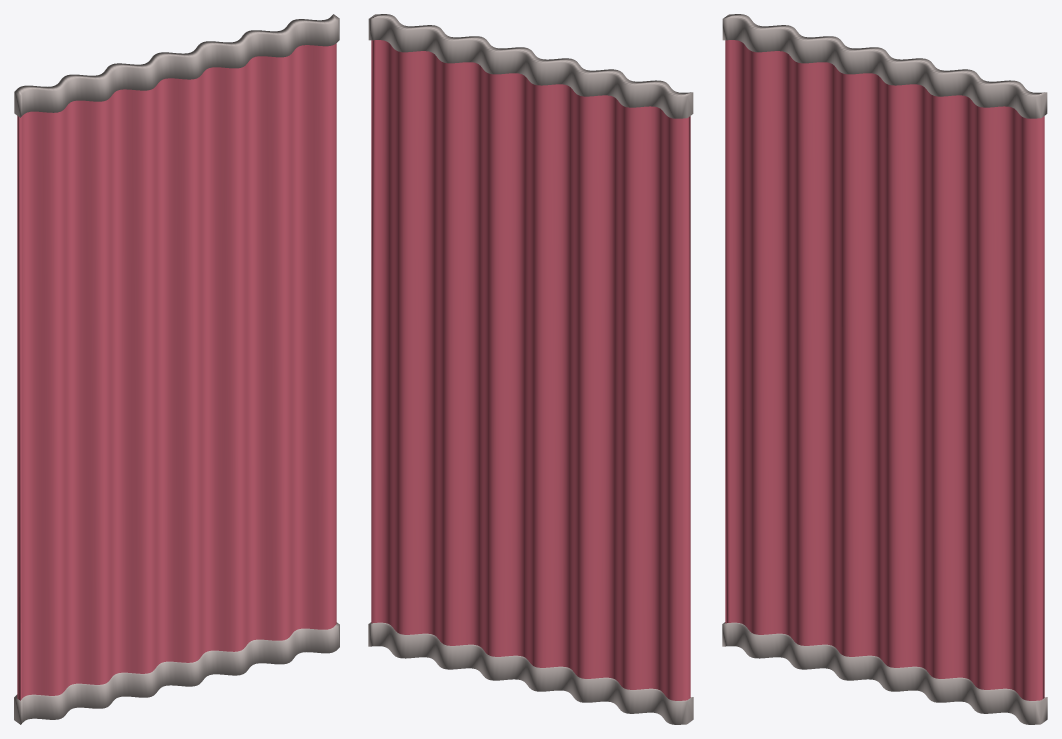
File: MessyMemoryCurtain.glb
3 views of the same model, side by side, from view 1: azimuth 30°, elevation 25°; view 2: azimuth 150°, elevation 25°; view 3: azimuth 330°, elevation 25° (orthographic).
Visible parts, largest first — view 1: Cloth, Trim; view 2: Cloth, Trim; view 3: Cloth, Trim.
Boxes of the visible parts, left/top/right/bottom form: Cloth: left=17, top=43, right=336, bottom=700; Trim: left=14, top=14, right=339, bottom=724; Cloth: left=371, top=40, right=690, bottom=700; Trim: left=368, top=14, right=693, bottom=724; Cloth: left=725, top=40, right=1044, bottom=700; Trim: left=722, top=14, right=1047, bottom=724.
Bounding box in the file's own units: 6.66 × 12.53 × 0.52.
